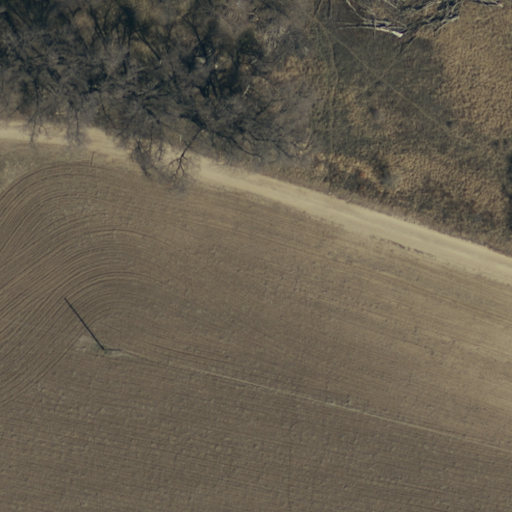DT: (98, 339, 130, 363)
